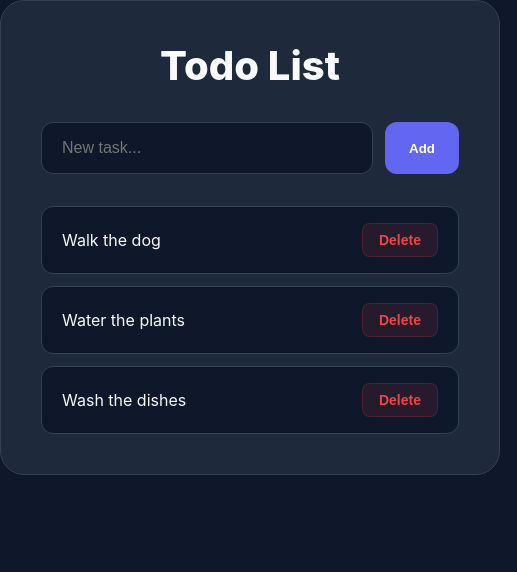
Test: TodoList Component › should add task on Enter key
Type "Enter Task" into the field with placeholder "New task..." at (207, 148), box [41,122,373,174]
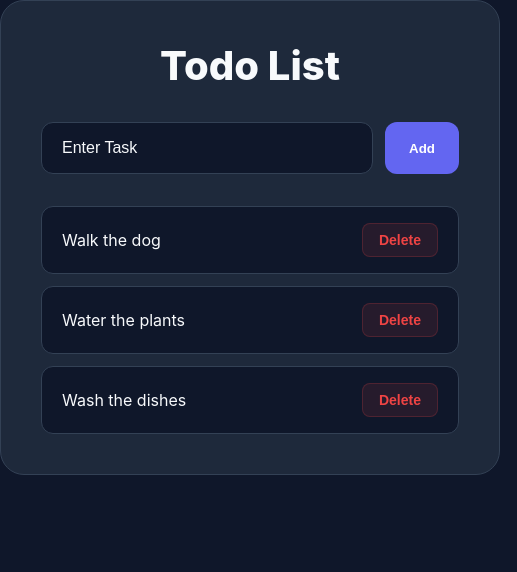
Press Enter in the field with placeholder "New task...", box [41,122,373,174]
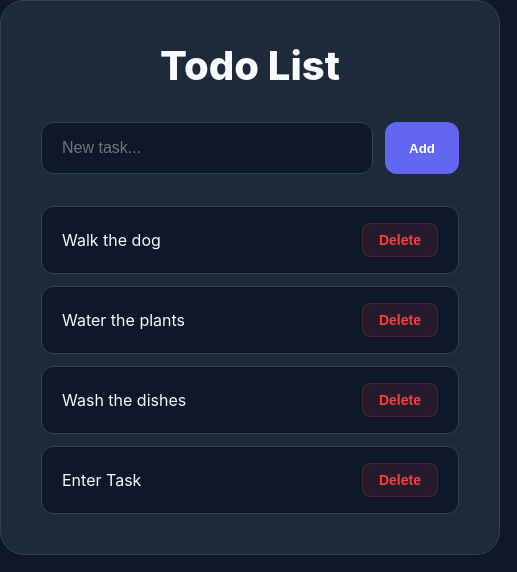
Result: the text "Enter Task" is shown at [62,470,141,490]
